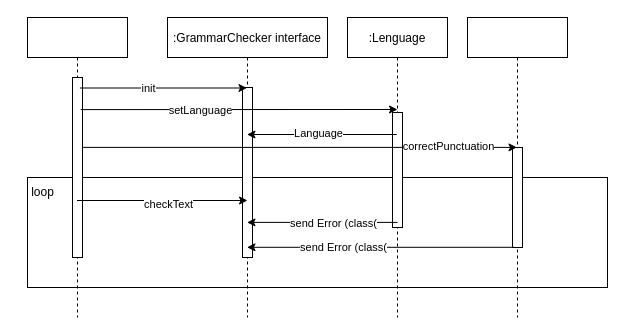
The diagram is 625 pixels wide and 335 high, and some of its shapes have lost their labels. The box of each missing label's shape, as (x1, y1, x2, y2) in pixels:
:Client: (26, 16, 128, 318)
:Punctuation: (466, 16, 568, 318)
